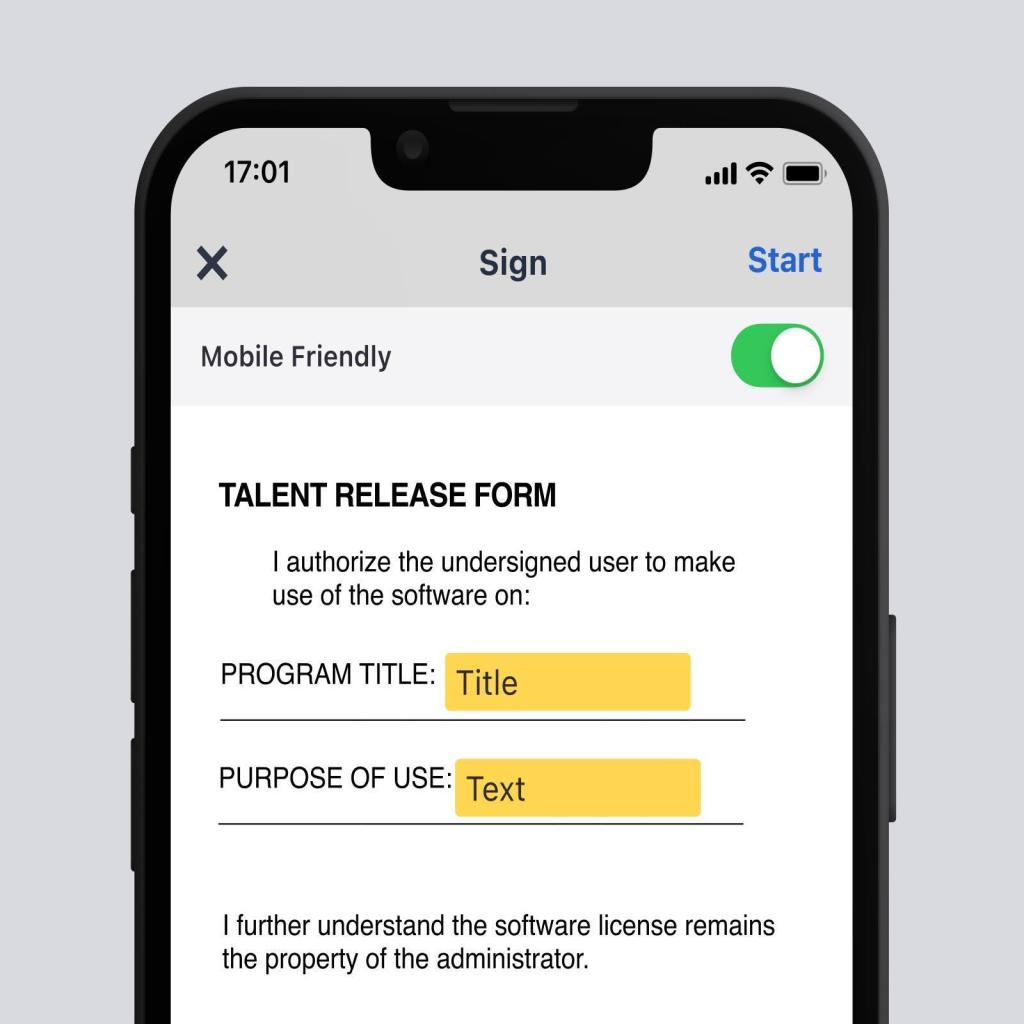icon: (191, 237, 235, 289)
input: (454, 758, 700, 818), (446, 653, 693, 712)
label: (212, 457, 561, 527), (215, 641, 439, 707), (192, 338, 401, 380), (218, 760, 453, 796), (470, 238, 556, 294), (744, 238, 834, 284)
switch: (730, 321, 827, 386)
